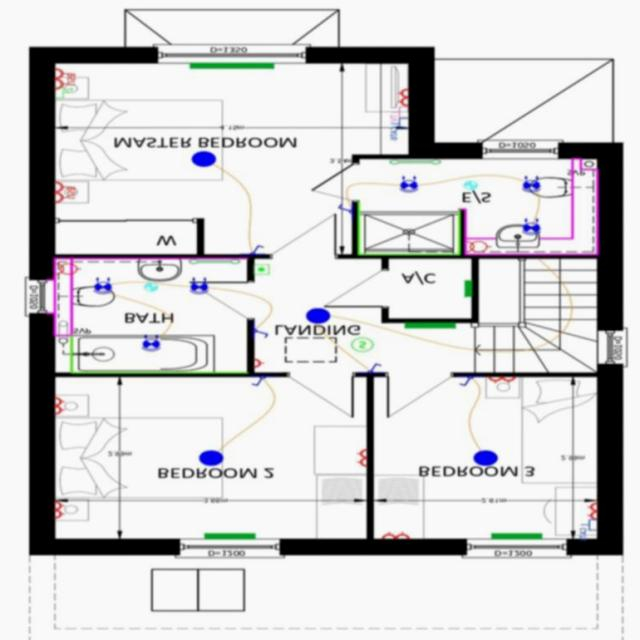Cat 6 Data Socket: (389, 120, 407, 142), (579, 520, 596, 540)
Ceiling Mounted Continuous Extract FanWith Boost Mode Activated By Light Switch: (144, 284, 156, 293), (464, 183, 476, 190)
Co-Ax TV Socket: (389, 109, 407, 125)
Double Socket: (487, 377, 515, 385), (54, 396, 65, 416), (397, 89, 408, 108), (381, 532, 409, 539), (356, 450, 366, 468), (54, 502, 64, 520), (587, 504, 596, 520)
Full Height Tiling: (70, 337, 248, 374), (356, 202, 459, 256)
Light Switch: (366, 364, 382, 374), (337, 204, 351, 214), (459, 378, 473, 388), (250, 378, 264, 388), (250, 246, 264, 255), (254, 329, 268, 338)
Low Energy Downlighter: (522, 175, 540, 194), (399, 176, 417, 194), (189, 278, 208, 295), (140, 336, 160, 352), (522, 219, 539, 236), (93, 279, 111, 295)
Low Energy Pendant Light: (192, 152, 215, 168), (306, 309, 329, 324), (198, 452, 222, 466), (473, 452, 497, 466)
Mains Wired Smoke Detector: (351, 340, 372, 352)
Programmable Room Thermostat: (254, 265, 268, 275)
Radiator: (188, 63, 274, 69), (403, 323, 456, 329), (490, 534, 541, 540), (204, 534, 254, 540), (464, 282, 470, 298)
Shaver Socket: (464, 240, 491, 255), (54, 264, 80, 275)
Single Socket: (252, 360, 264, 369)
Telephone Socket: (54, 88, 69, 100)
USB Double Socket: (54, 182, 74, 204), (55, 69, 74, 90)
